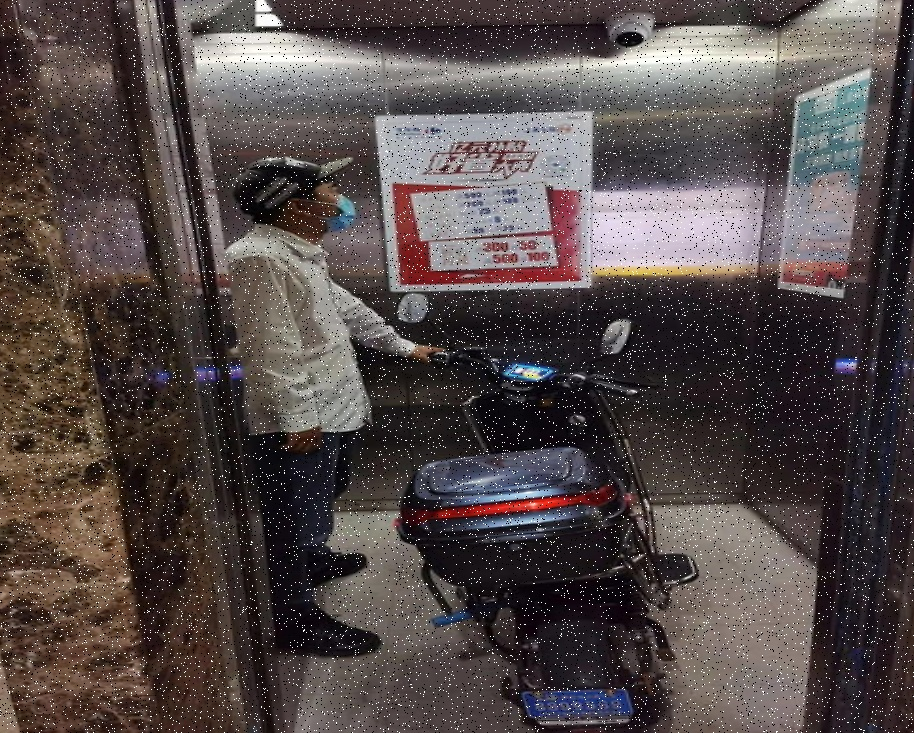ebike: (392, 284, 680, 714)
person: (233, 152, 426, 660)
